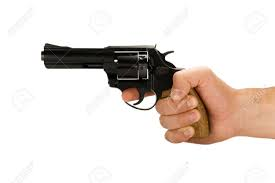gun: (40, 41, 211, 143)
